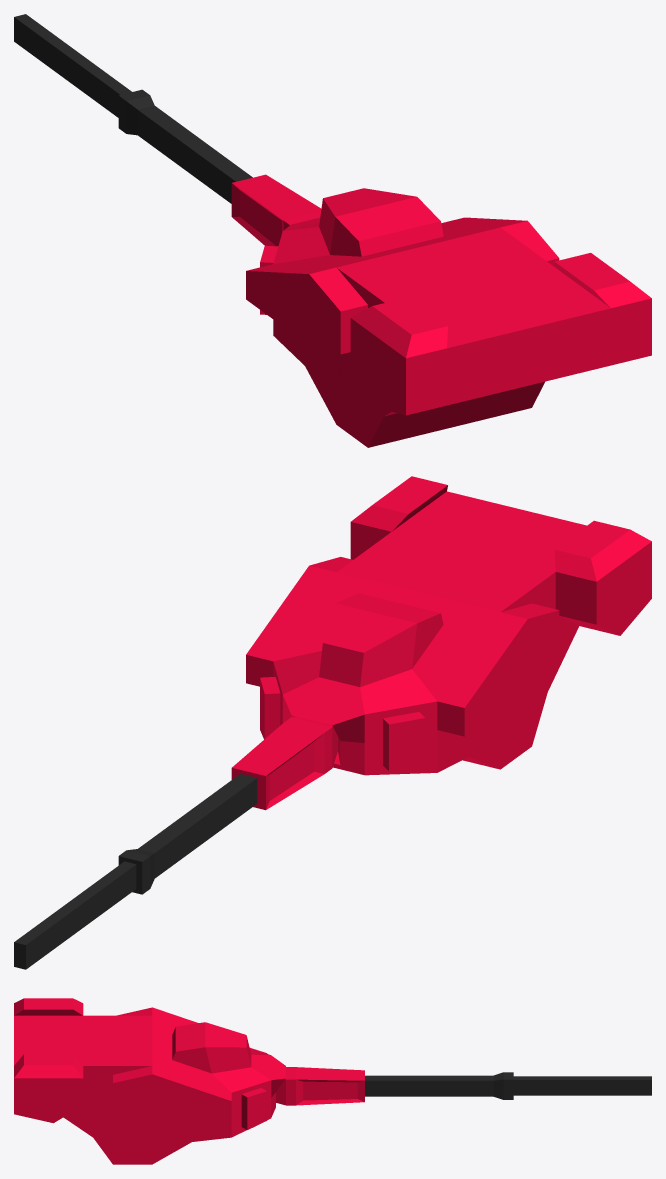
The model's file is evil apc autocannon.gltf.
The picture shows the model from 3 angles, top to bottom: view 1: azimuth 30°, elevation 25°; view 2: azimuth 150°, elevation 25°; view 3: azimuth 270°, elevation 25°; orthographic projection. The views are drawn at different scales.
Visible parts, largest first — view 1: mesh; view 2: mesh; view 3: mesh.
Part boxes in pixels (box(x1,y1,x2,y2)): mesh: box(14, 14, 651, 447); mesh: box(14, 476, 651, 969); mesh: box(14, 998, 651, 1164).
Bounding box in the file's own units: 1.12 × 0.75 × 4.03.
Materials: 1 (1 with a texture image).
